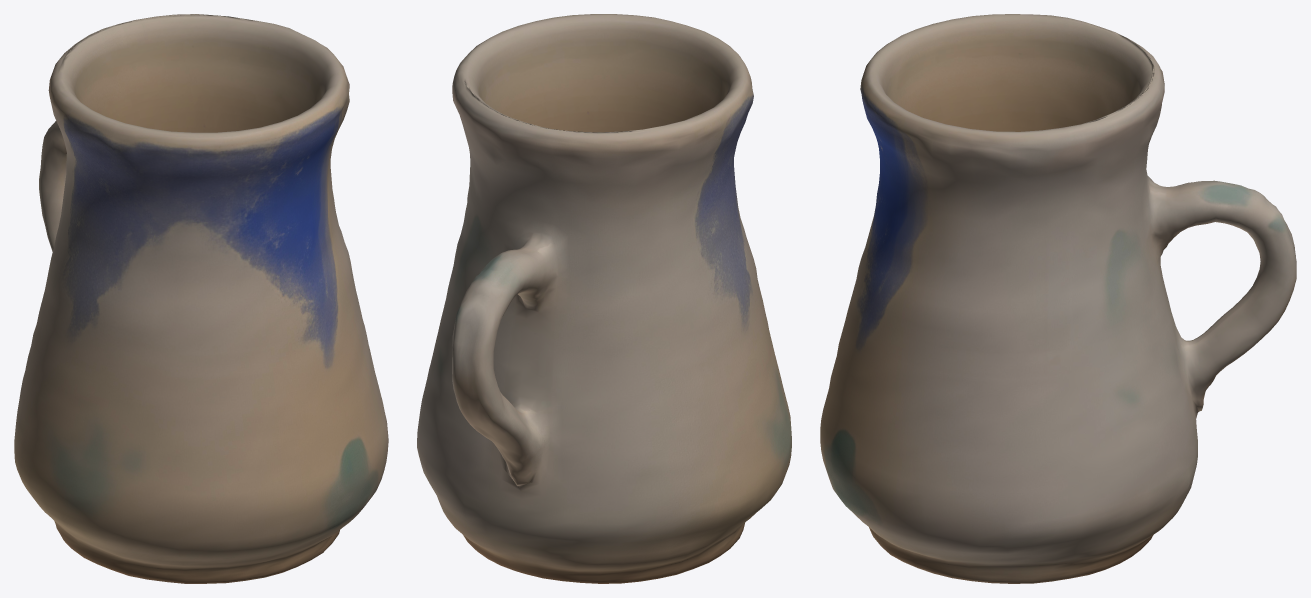
File: cup.glb
3 renders of one model, left to right at view 1: azimuth 30°, elevation 25°; view 2: azimuth 150°, elevation 25°; view 3: azimuth 270°, elevation 25°, orthographic.
Parts seen in each view (by area): view 1: tripo_node_03a05f10-8d09-4789-9f67-2bc09a341741; view 2: tripo_node_03a05f10-8d09-4789-9f67-2bc09a341741; view 3: tripo_node_03a05f10-8d09-4789-9f67-2bc09a341741.
Boxes of the visible parts, bbox=[...] form: tripo_node_03a05f10-8d09-4789-9f67-2bc09a341741: bbox=[14, 14, 388, 583]; tripo_node_03a05f10-8d09-4789-9f67-2bc09a341741: bbox=[417, 14, 791, 583]; tripo_node_03a05f10-8d09-4789-9f67-2bc09a341741: bbox=[820, 14, 1296, 583].
Size of the model in its own units: 0.1649 by 0.22 by 0.2097.
Materials: 1 (1 with a texture image).
